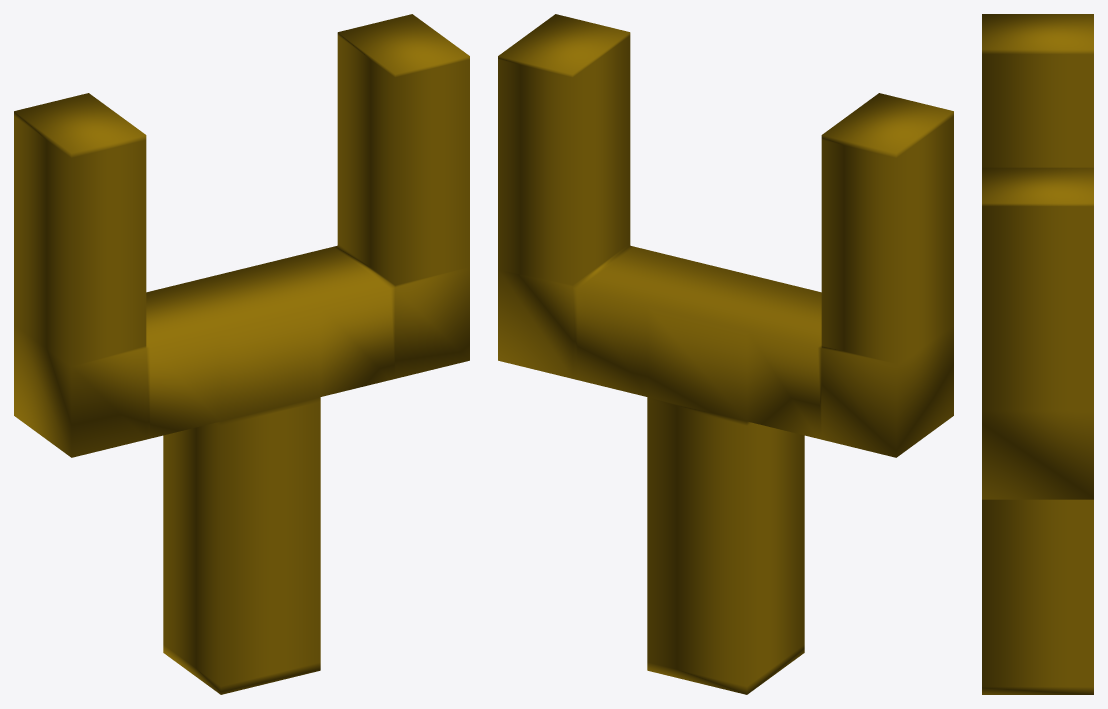
Rendered from sling.glb.
3 views of the same model, side by side, from view 1: azimuth 30°, elevation 25°; view 2: azimuth 150°, elevation 25°; view 3: azimuth 270°, elevation 25° (orthographic). The views are drawn at different scales.
Parts seen in each view (by area): view 1: Cube; view 2: Cube; view 3: Cube.
Boxes of the visible parts, x1=… form: Cube: x1=14, y1=14, x2=469, y2=694; Cube: x1=498, y1=14, x2=953, y2=694; Cube: x1=982, y1=14, x2=1093, y2=694.
Size of the model in its own units: 8 by 11.1 by 2.
